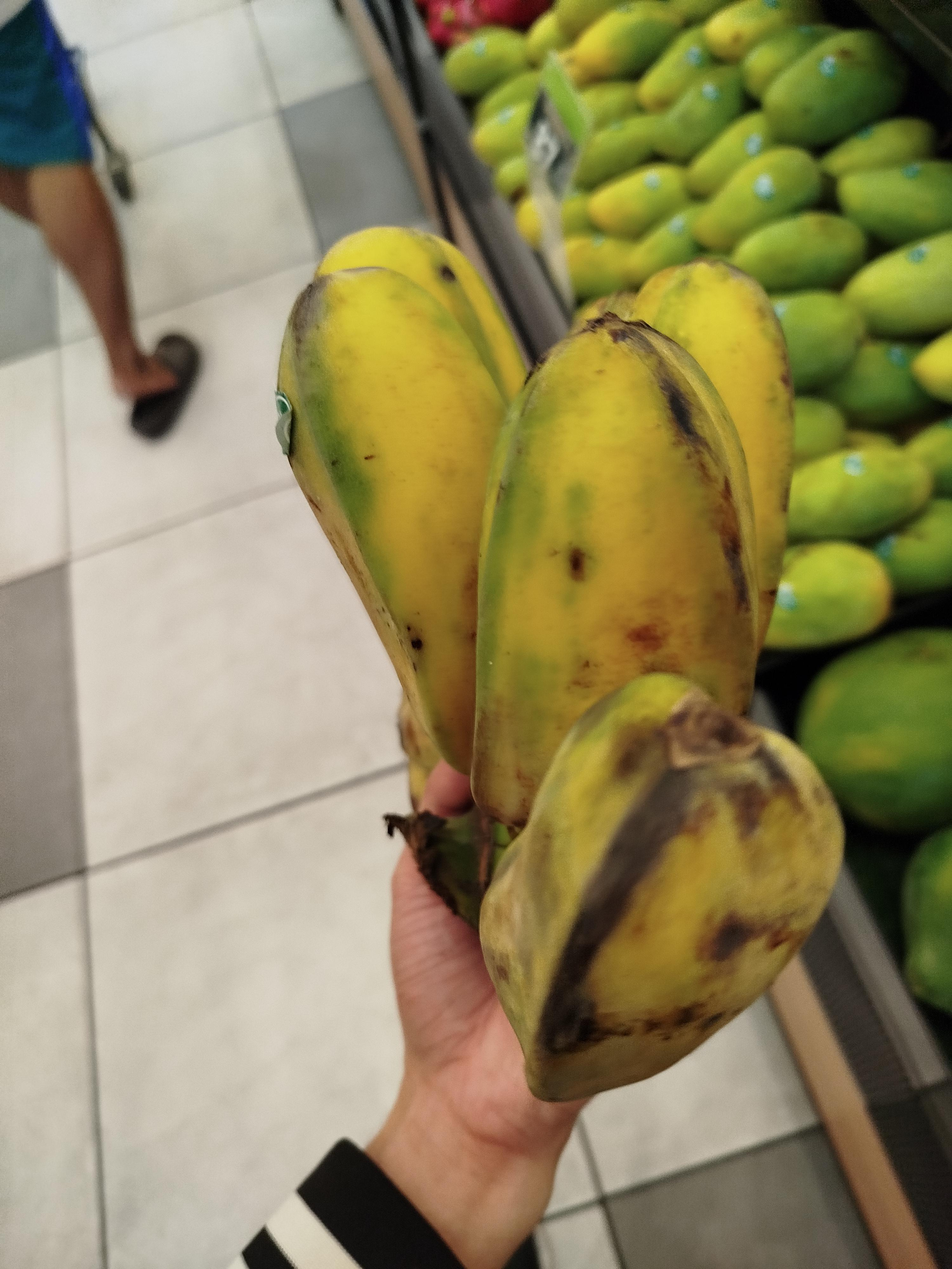underripe: (276, 227, 843, 1101)
